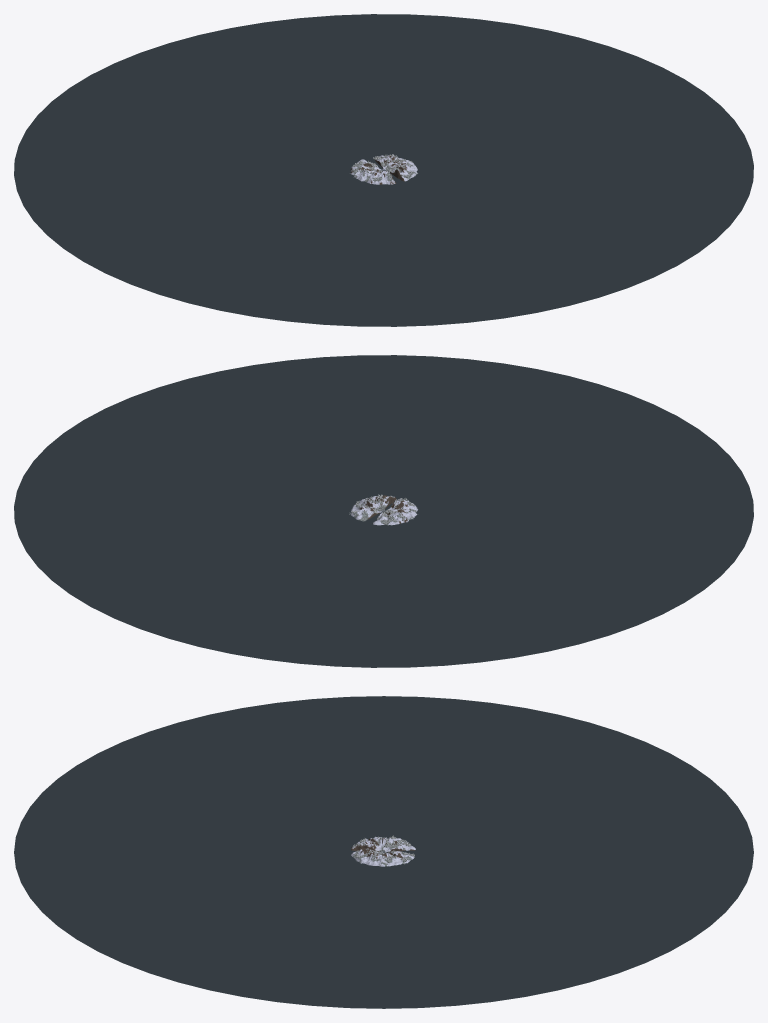
The model's file is backdrop_near_rect_flotsam_winter.glb.
The picture shows the model from 3 angles, top to bottom: view 1: azimuth 30°, elevation 25°; view 2: azimuth 150°, elevation 25°; view 3: azimuth 270°, elevation 25°; orthographic projection.
Visible parts, largest first — view 1: water_N, water_S, water_W, water_E; view 2: water_N, water_S, water_W, water_E; view 3: water_E, water_N, water_W, water_S.
Part boxes in pixels (left/top/right/bottom): water_N: left=26, top=14, right=479, bottom=170; water_S: left=288, top=173, right=741, bottom=326; water_W: left=14, top=130, right=383, bottom=321; water_E: left=384, top=19, right=753, bottom=210; water_N: left=26, top=512, right=479, bottom=667; water_S: left=288, top=355, right=741, bottom=511; water_W: left=384, top=471, right=753, bottom=662; water_E: left=14, top=360, right=383, bottom=551; water_E: left=123, top=863, right=644, bottom=1008; water_N: left=384, top=742, right=753, bottom=962; water_W: left=123, top=696, right=644, bottom=852; water_S: left=14, top=742, right=383, bottom=962.
Size of the model in its own units: 6000 by 169 by 6000.
Materials: 5 (3 with a texture image).
